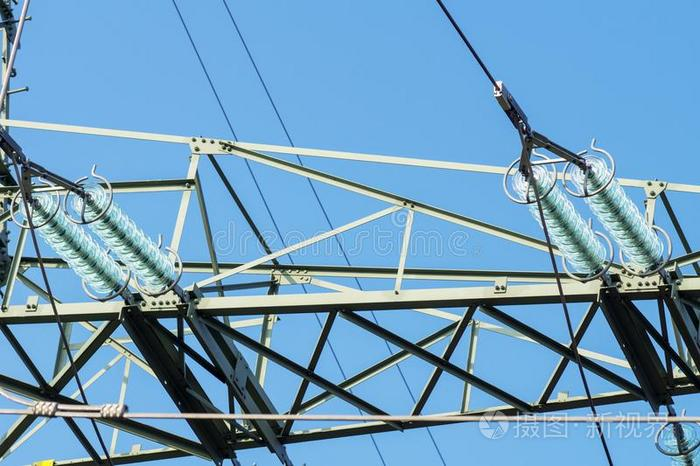insulator: (517, 155, 665, 274), (21, 185, 179, 294)
